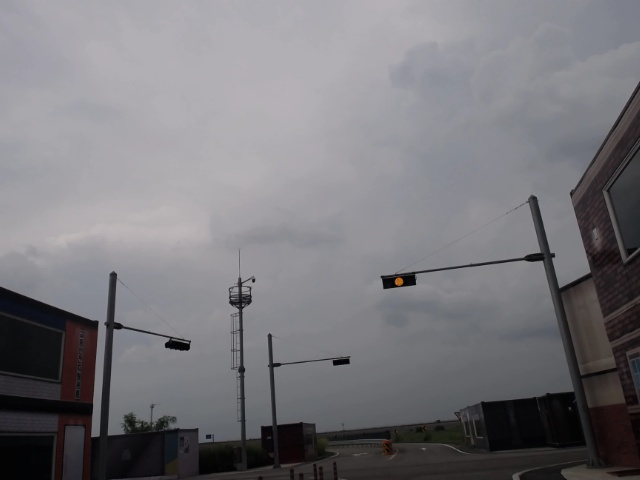orange_3: (383, 273, 417, 289)
